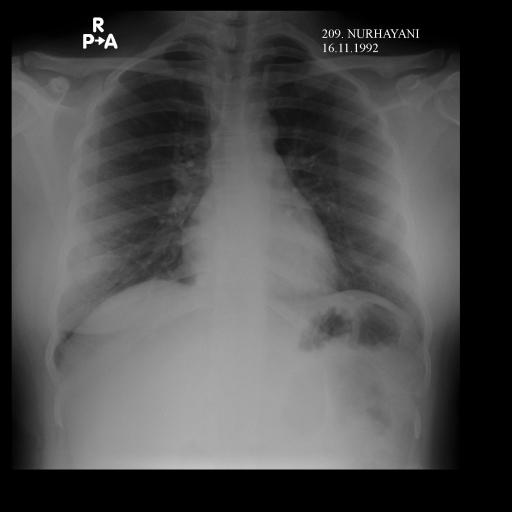normal: (42, 18, 438, 382)
